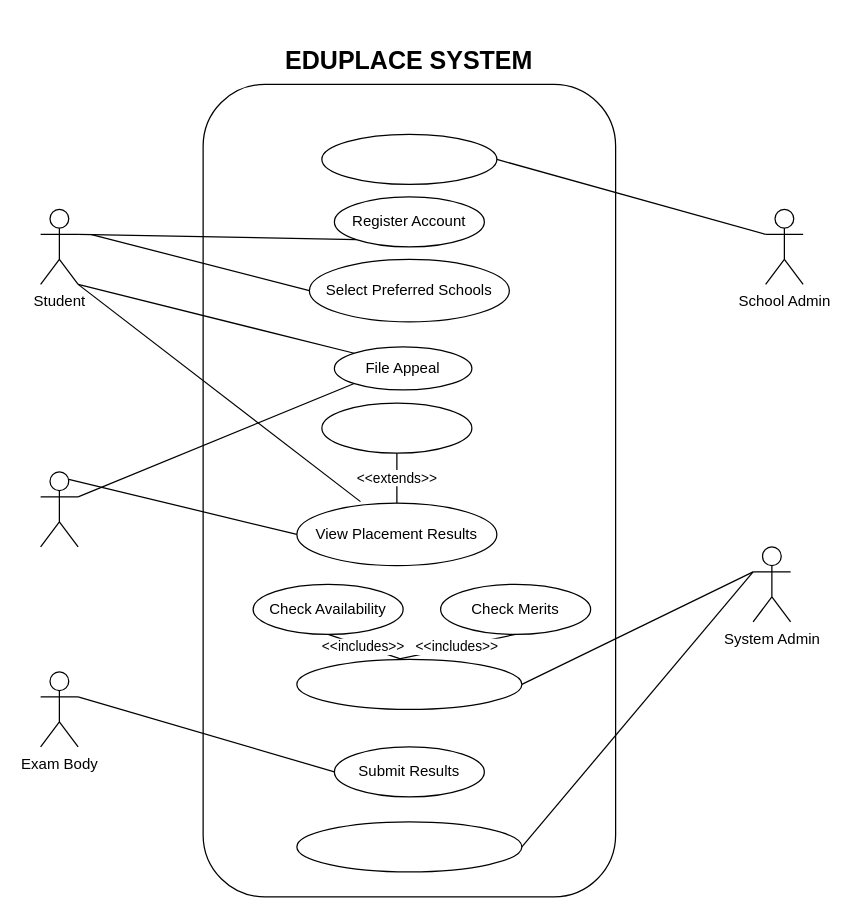
Some shapes in this 851 by 919 pixel diagram are drawn without their labels. Each missing label, with the box of its shape:
Generate Reports: (296, 821, 522, 872)
Parent: (39, 471, 78, 547)
Run Placement Algorithm: (296, 658, 522, 709)
Send Notifications: (321, 402, 472, 453)
Update School Info: (321, 133, 497, 184)
